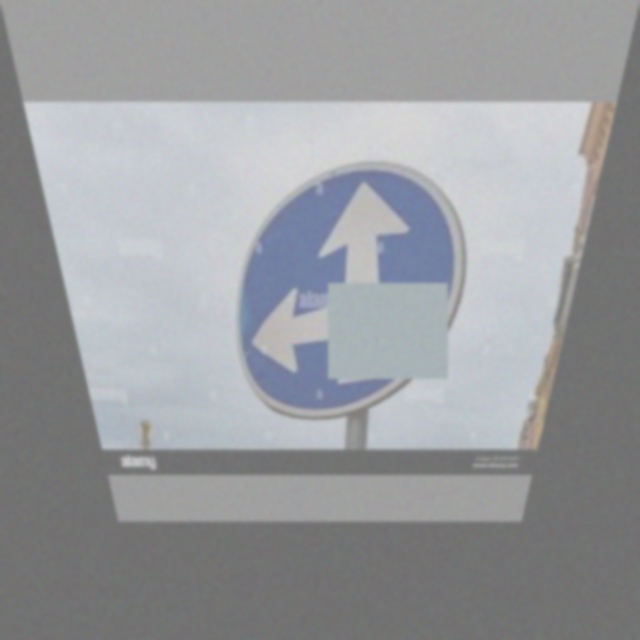Compulsory_Ahead_or_Turn_Left: (230, 164, 475, 413)
